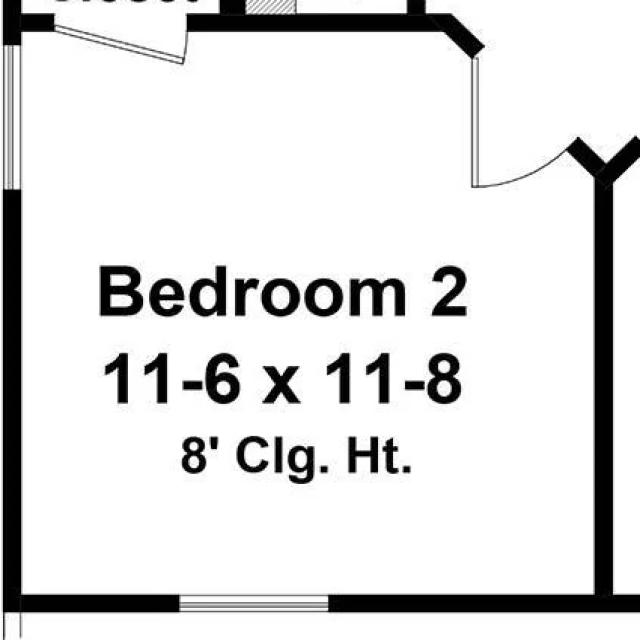Doors: (457, 52, 582, 191)
